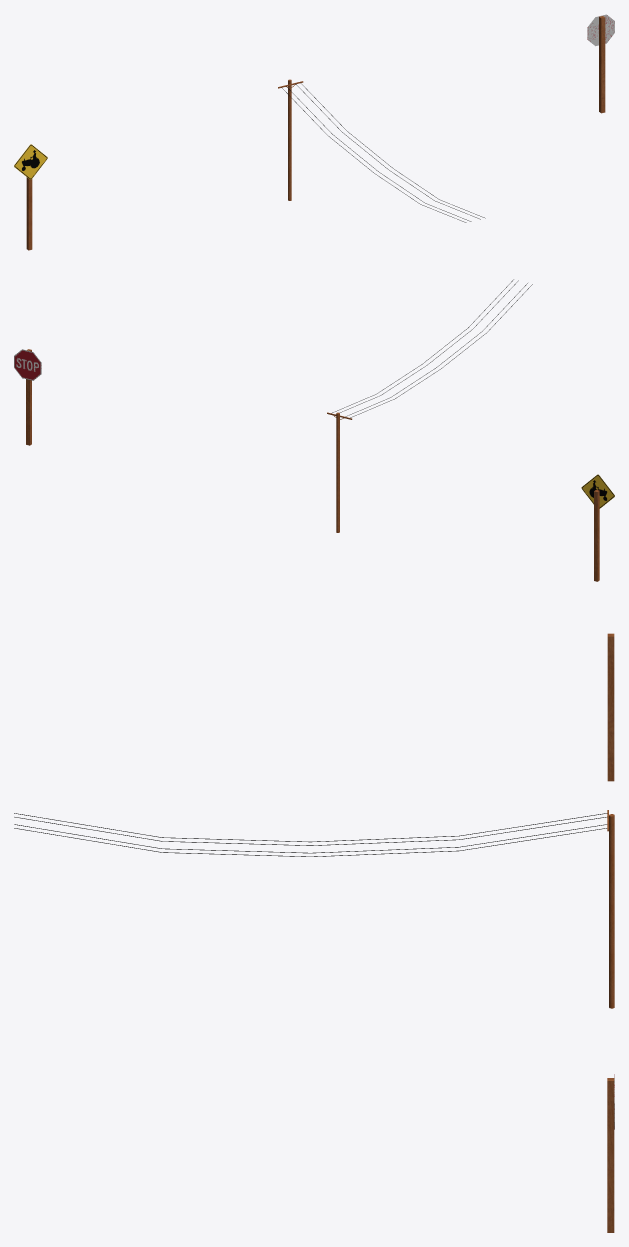
The model's file is Town.FBX.
3 renders of one model, top to bottom at view 1: azimuth 30°, elevation 25°; view 2: azimuth 150°, elevation 25°; view 3: azimuth 270°, elevation 25°, orthographic. The views are drawn at different scales.
Parts seen in each view (by area): view 1: Town_Sign_Pole, Town_Sign_Stop, Sign_1, Town_Sign_; view 2: Town_Sign_Pole, Town_Sign_Stop, Sign_1, Town_Sign_; view 3: Town_Sign_Pole, Town_Sign_Stop, Town_Sign_.
Boxes of the visible parts, <box> form: Town_Sign_Pole: <box>278,79,485,222</box>; Town_Sign_Stop: <box>587,14,614,113</box>; Sign_1: <box>14,144,47,179</box>; Town_Sign_: <box>26,177,32,250</box>; Town_Sign_Pole: <box>327,279,532,532</box>; Town_Sign_Stop: <box>14,349,41,445</box>; Sign_1: <box>581,474,614,508</box>; Town_Sign_: <box>594,489,599,581</box>; Town_Sign_Pole: <box>14,810,614,1008</box>; Town_Sign_Stop: <box>607,1074,614,1232</box>; Town_Sign_: <box>607,633,614,781</box>.
Size of the model in its own units: 1482 by 798 by 283.
Materials: 5 (3 with a texture image).
